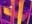Hotspot: (17, 0, 25, 23), (3, 7, 11, 16), (11, 0, 15, 6)
